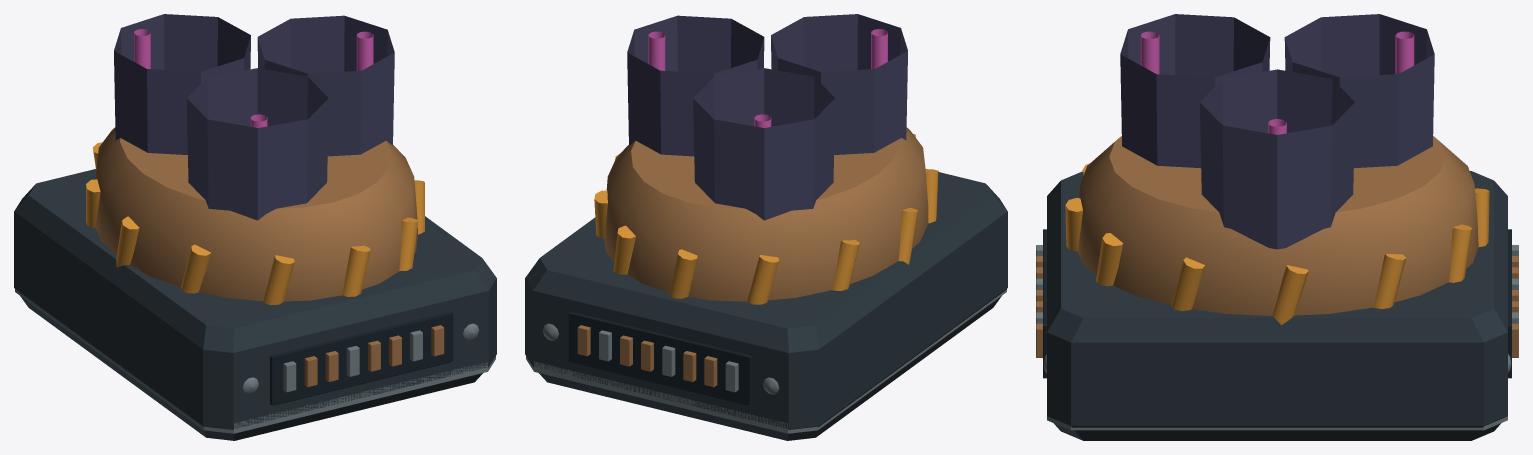
File: wreck_vespera_0.glb
3 renders of one model, left to right at view 1: azimuth 30°, elevation 25°; view 2: azimuth 150°, elevation 25°; view 3: azimuth 270°, elevation 25°, orthographic. The views are drawn at different scales.
Parts seen in each view (by area): view 1: wreck_vespera_0; view 2: wreck_vespera_0; view 3: wreck_vespera_0.
Boxes of the visible parts, x1,y1,x2,y2 form: wreck_vespera_0: [14, 14, 496, 440]; wreck_vespera_0: [525, 14, 1007, 440]; wreck_vespera_0: [1036, 14, 1518, 440].
Bounding box in the file's own units: 3.2 × 2.89 × 4.17.
